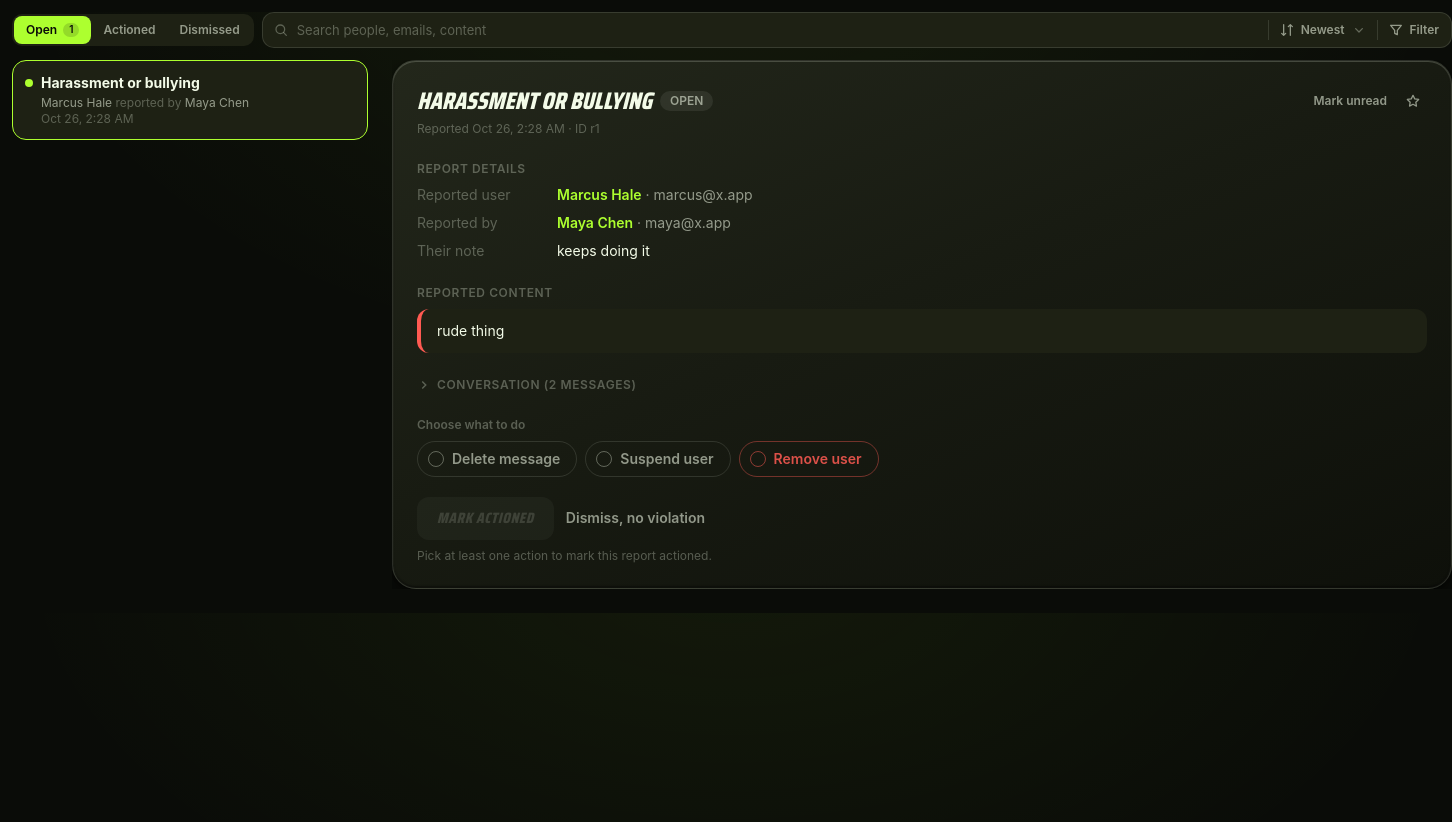
it: shows the report, both parties, the content and its conversation
The width and height of the screenshot is (1452, 822).
Expected: the heading "Harassment or bullying" is shown, [417,85,652,117]
Expected: the link "Marcus Hale" is shown, [557,186,642,203]
Click the button "Conversation (2 messages)" at (527, 385), box [417,377,637,393]
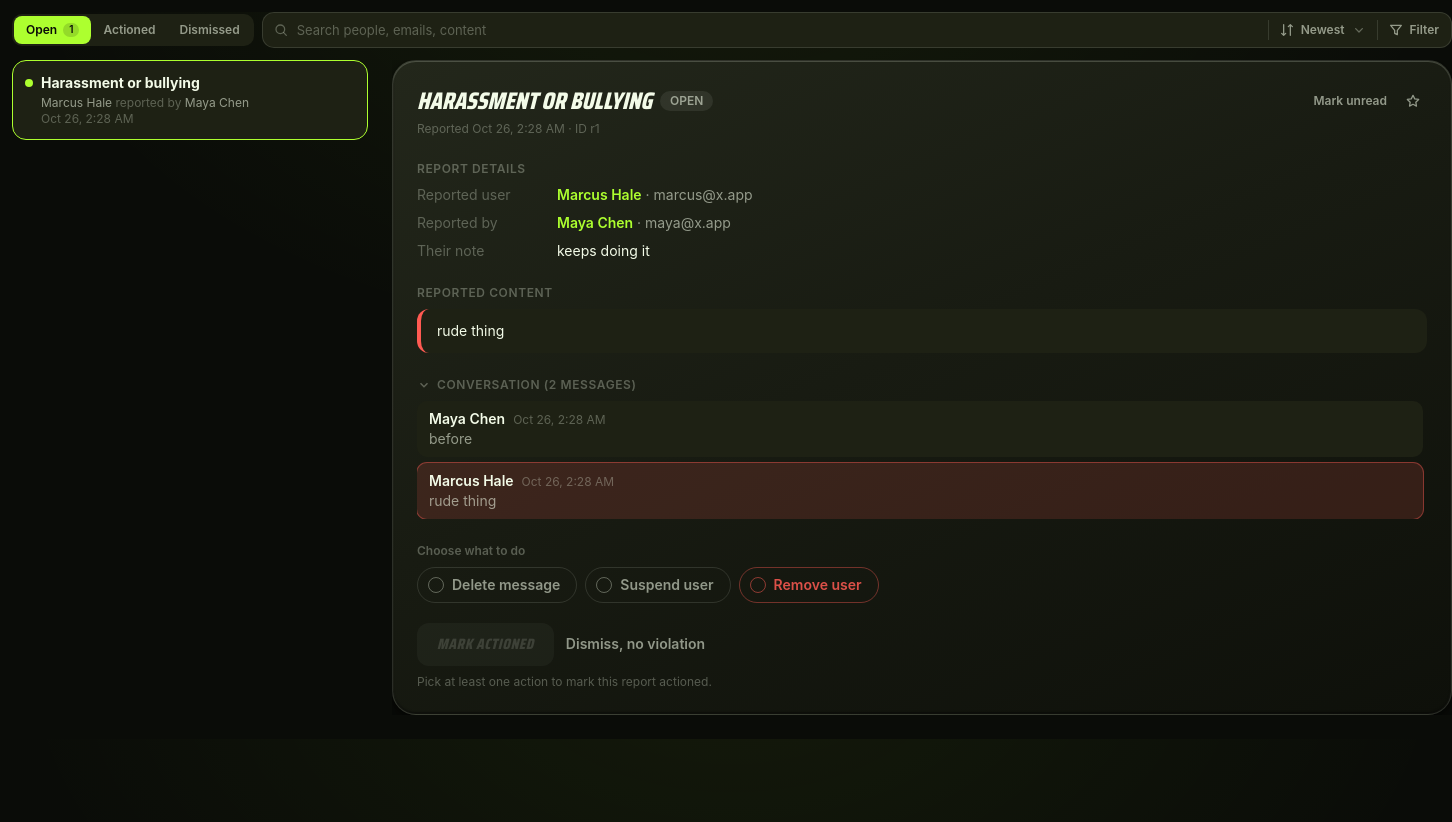
Expected: the text "rude thing" is shown 2 times, [417,309,1427,353]; [429,492,496,509]
Now the list named "Conversation context" shows "before", box [429,430,472,447]
